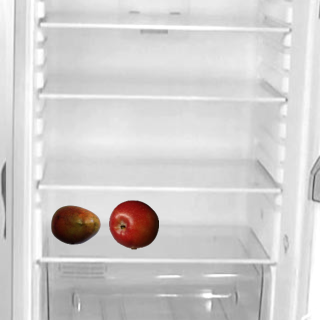Apple Braeburn: (108, 199, 158, 249)
Mango Red: (50, 199, 100, 249)
